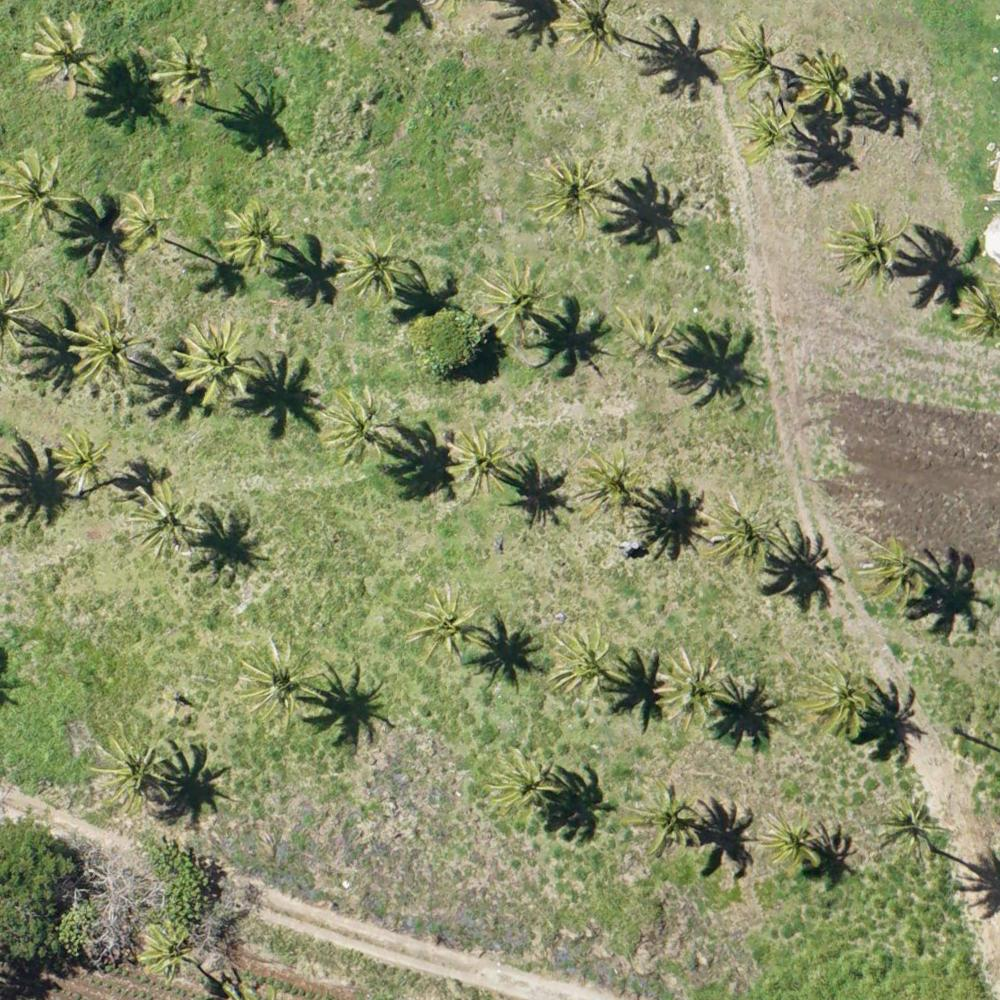Palm: (240, 635, 330, 724), (90, 729, 178, 814), (69, 302, 153, 389), (701, 493, 783, 582), (173, 317, 257, 402), (573, 448, 652, 533), (831, 204, 907, 290), (24, 15, 103, 97), (804, 657, 881, 741), (482, 747, 566, 824), (321, 392, 397, 474), (128, 482, 204, 562), (4, 155, 80, 234), (535, 154, 611, 232), (653, 646, 721, 731), (445, 426, 519, 501), (874, 790, 946, 863), (550, 1, 631, 65), (479, 267, 551, 338), (412, 584, 481, 658), (628, 784, 699, 855), (858, 534, 928, 606), (721, 22, 788, 96), (550, 624, 614, 700), (339, 231, 408, 298), (737, 98, 806, 165), (153, 35, 218, 105), (616, 308, 687, 372), (756, 811, 825, 876), (220, 204, 290, 267), (52, 433, 115, 496), (798, 51, 861, 113), (112, 185, 173, 249), (138, 919, 197, 981)
